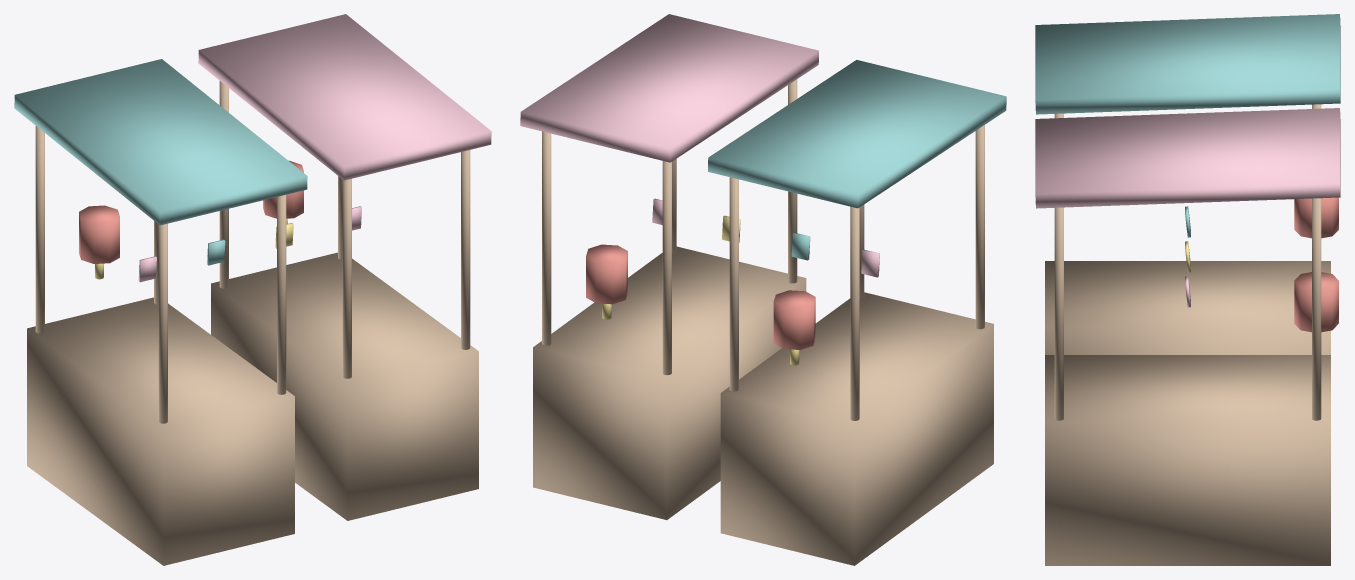
Rendered from night_market_lv2.glb.
3 views of the same model, side by side, from view 1: azimuth 30°, elevation 25°; view 2: azimuth 150°, elevation 25°; view 3: azimuth 270°, elevation 25° (orthographic). The views are drawn at different scales.
Parts seen in each view (by area): view 1: stall1_tbl, stall2_tbl, stall1_can, stall2_can, stall1_lan, stall1_p3, stall2_p1, stall1_p1, stall1_p2, stall2_p2, stall2_p3, stall2_lan; view 2: stall1_tbl, stall2_tbl, stall2_can, stall1_can, stall1_lan, stall2_lan, stall1_p3, stall1_p4, stall2_p3, stall2_p4, stall1_p1, stall2_p1; view 3: stall2_tbl, stall1_can, stall2_can, stall1_tbl, stall2_p4, stall2_p2, stall2_lan, stall1_lan.
Part boxes in pixels (bbox=[...]): stall1_tbl: bbox=[27, 297, 294, 565]; stall2_tbl: bbox=[211, 252, 478, 520]; stall1_can: bbox=[14, 59, 307, 225]; stall2_can: bbox=[198, 14, 491, 180]; stall1_lan: bbox=[79, 205, 119, 263]; stall1_p3: bbox=[35, 126, 44, 333]; stall2_p1: bbox=[342, 178, 351, 378]; stall1_p1: bbox=[158, 223, 167, 423]; stall1_p2: bbox=[277, 195, 286, 394]; stall2_p2: bbox=[461, 150, 470, 349]; stall2_p3: bbox=[219, 81, 228, 288]; stall2_lan: bbox=[263, 160, 303, 218]; stall1_tbl: bbox=[720, 292, 993, 565]; stall2_tbl: bbox=[533, 246, 806, 519]; stall2_can: bbox=[520, 14, 818, 162]; stall1_can: bbox=[708, 60, 1006, 208]; stall1_lan: bbox=[773, 290, 815, 349]; stall2_lan: bbox=[586, 244, 627, 304]; stall1_p3: bbox=[850, 206, 859, 420]; stall1_p4: bbox=[729, 177, 738, 391]; stall2_p3: bbox=[662, 161, 671, 375]; stall2_p4: bbox=[542, 131, 551, 345]; stall1_p1: bbox=[975, 125, 984, 329]; stall2_p1: bbox=[788, 79, 797, 283]; stall2_tbl: bbox=[1045, 355, 1330, 565]; stall1_can: bbox=[1035, 14, 1340, 114]; stall2_can: bbox=[1035, 108, 1340, 208]; stall1_tbl: bbox=[1045, 261, 1330, 354]; stall2_p4: bbox=[1312, 198, 1321, 420]; stall2_p2: bbox=[1054, 207, 1063, 420]; stall2_lan: bbox=[1294, 272, 1338, 332]; stall1_lan: bbox=[1294, 197, 1338, 238].
Size of the model in its own units: 1.26 by 1.34 by 0.9612.
